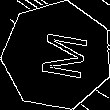M_W: (28, 28, 87, 83)
